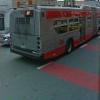Bus: (3, 4, 94, 61)
